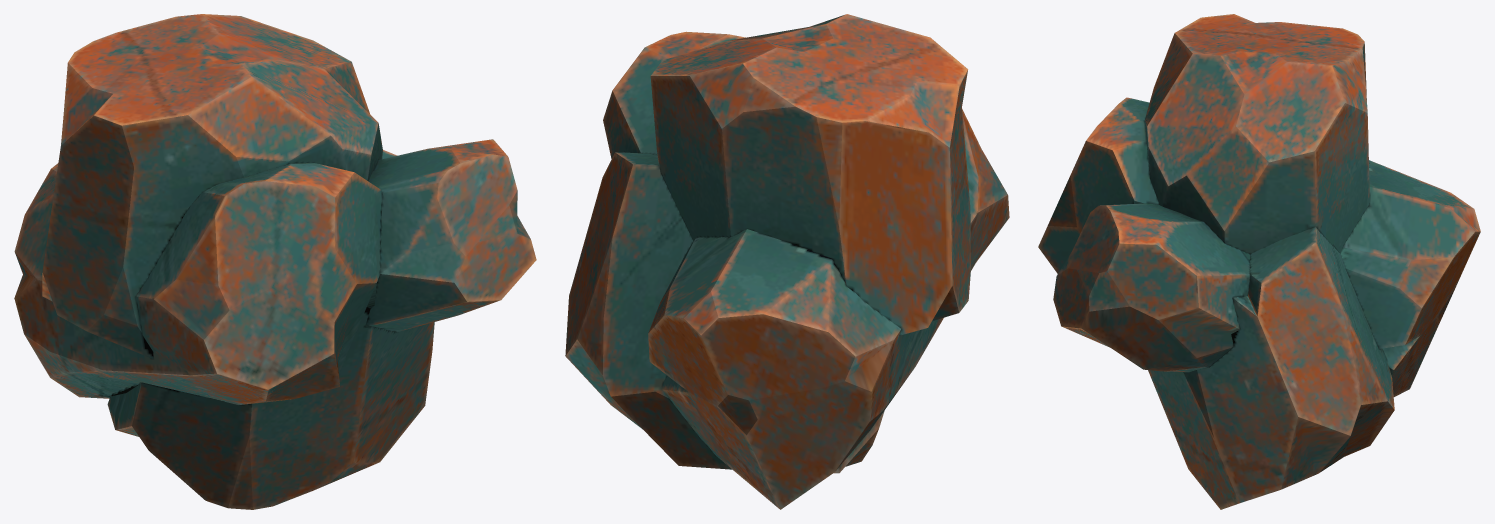
The model's file is CopperOre.glb.
3 renders of one model, left to right at view 1: azimuth 30°, elevation 25°; view 2: azimuth 150°, elevation 25°; view 3: azimuth 270°, elevation 25°, orthographic. The views are drawn at different scales.
Parts seen in each view (by area): view 1: CopperOre; view 2: CopperOre; view 3: CopperOre.
Part boxes in pixels (left/top/right/bottom): CopperOre: left=14, top=14, right=536, bottom=509; CopperOre: left=565, top=14, right=1009, bottom=509; CopperOre: left=1038, top=14, right=1480, bottom=509.
Bounding box in the file's own units: 0.2721 × 0.2916 × 0.2887.
1 material, 1 textured.
